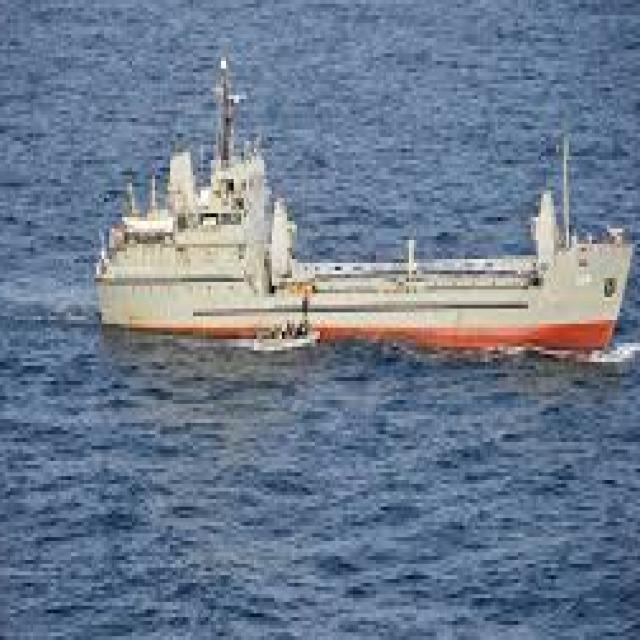navalvessels: (84, 76, 640, 339)
